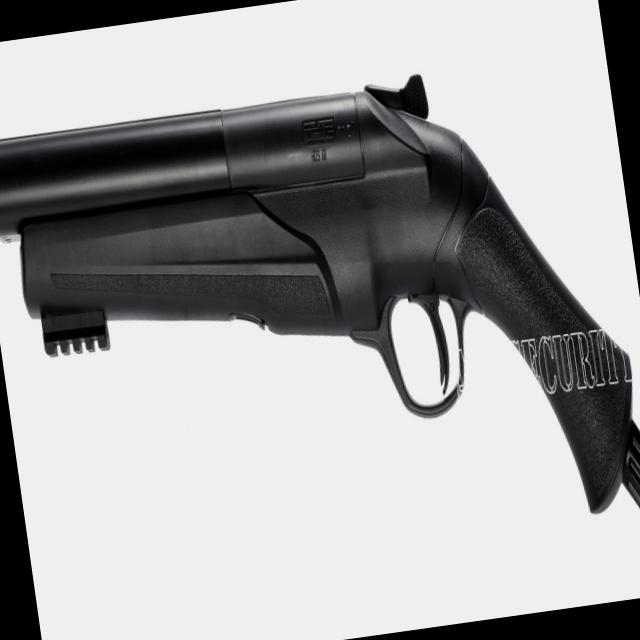long weapon: (0, 48, 640, 558)
